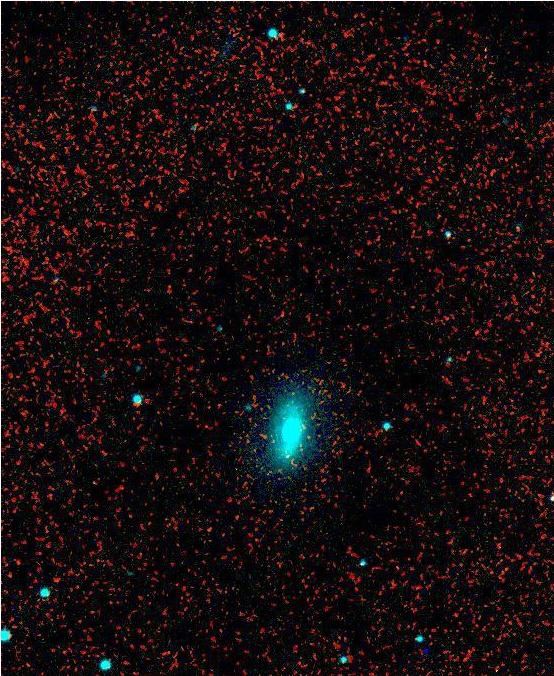star: (214, 457, 244, 487)
